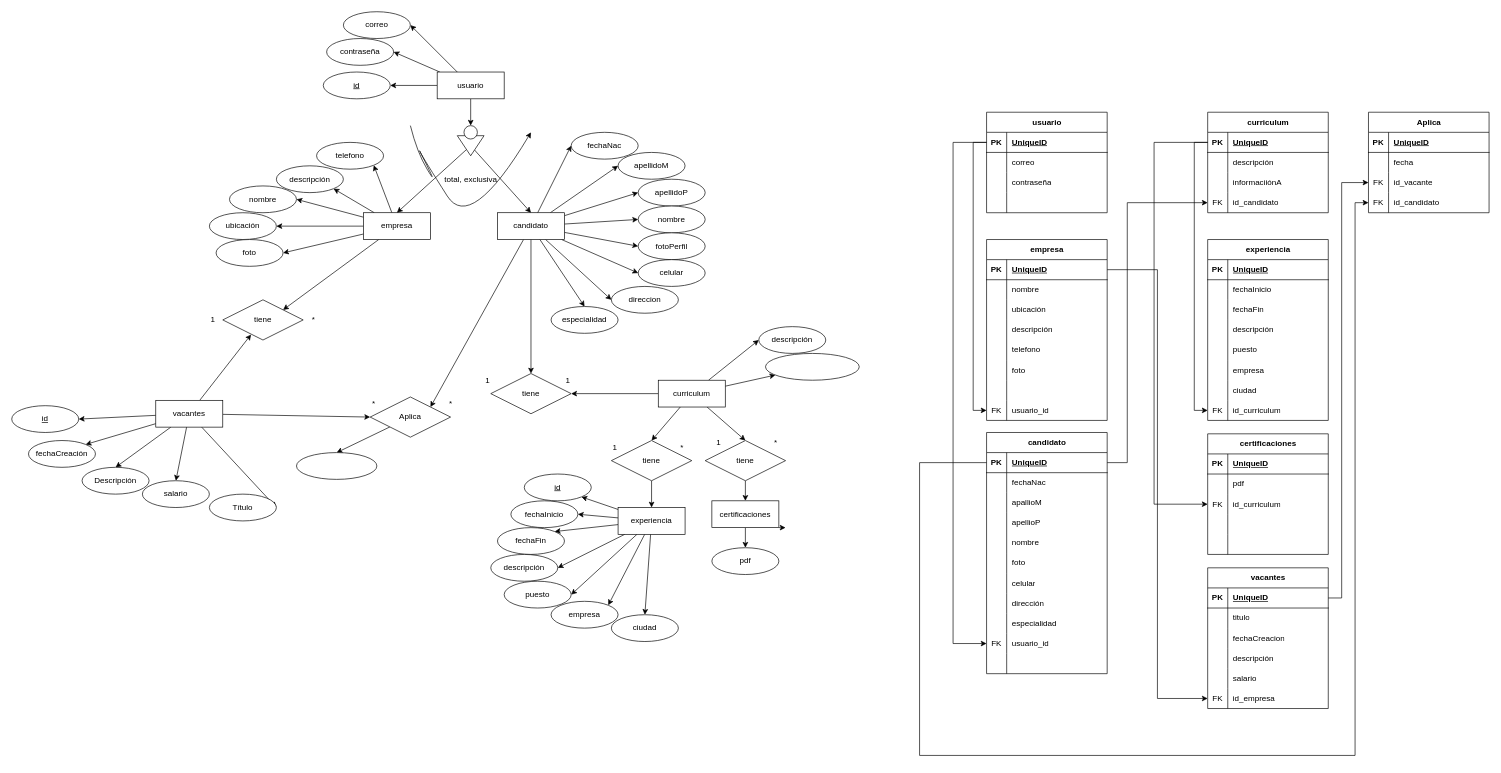
The diagram is 1501 pixels wide and 773 high, and some of its shapes have lost their labels. Here are the shapes that lost their labels. From the top down, the box of each, then its label:
(765, 353, 859, 380): informacionAdicional
(296, 452, 377, 479): fecha_aplicación
